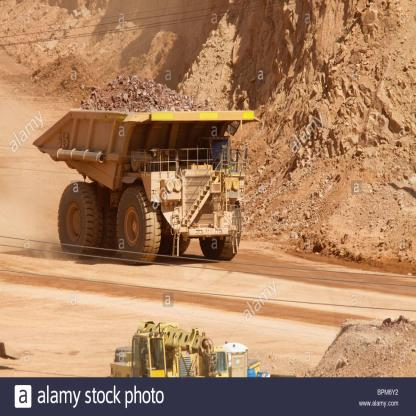dump_truck: (34, 72, 250, 267)
